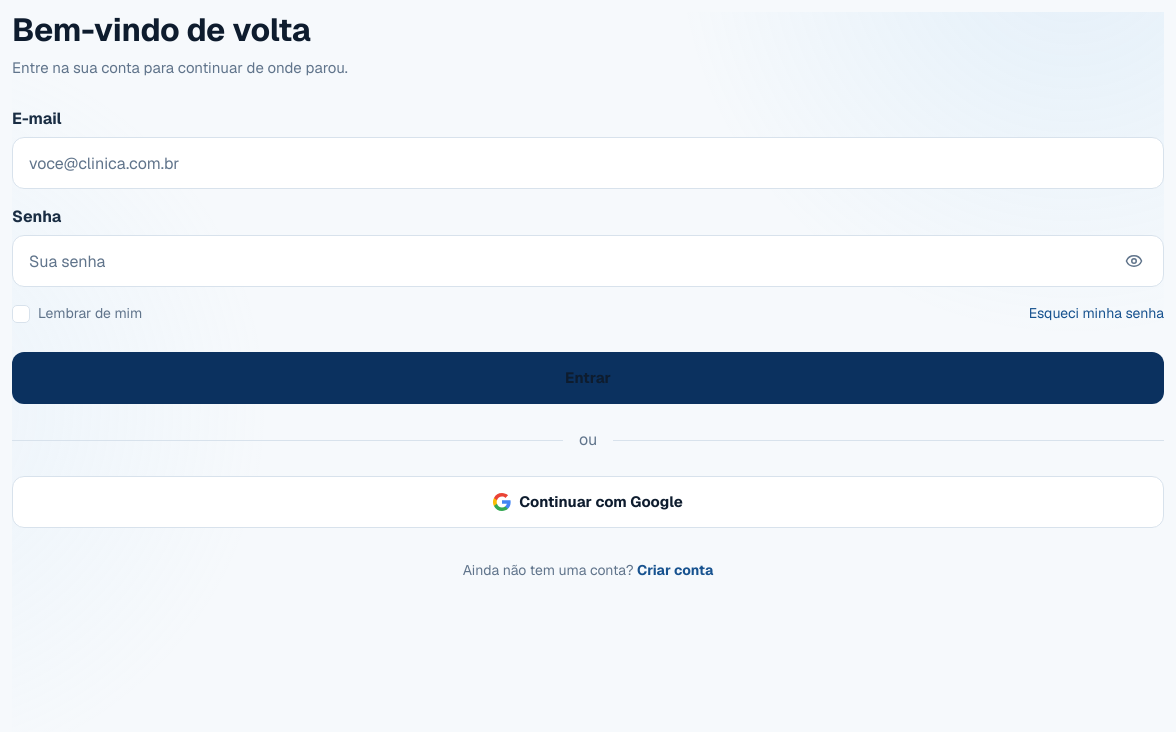
Test: estados do envio › falha de transporte não deixa a tela muda
The width and height of the screenshot is (1176, 732).
In the field labelled "E-mail": (588, 163) x1=12 y1=137 x2=1164 y2=189, type "maria@exemplo.com"
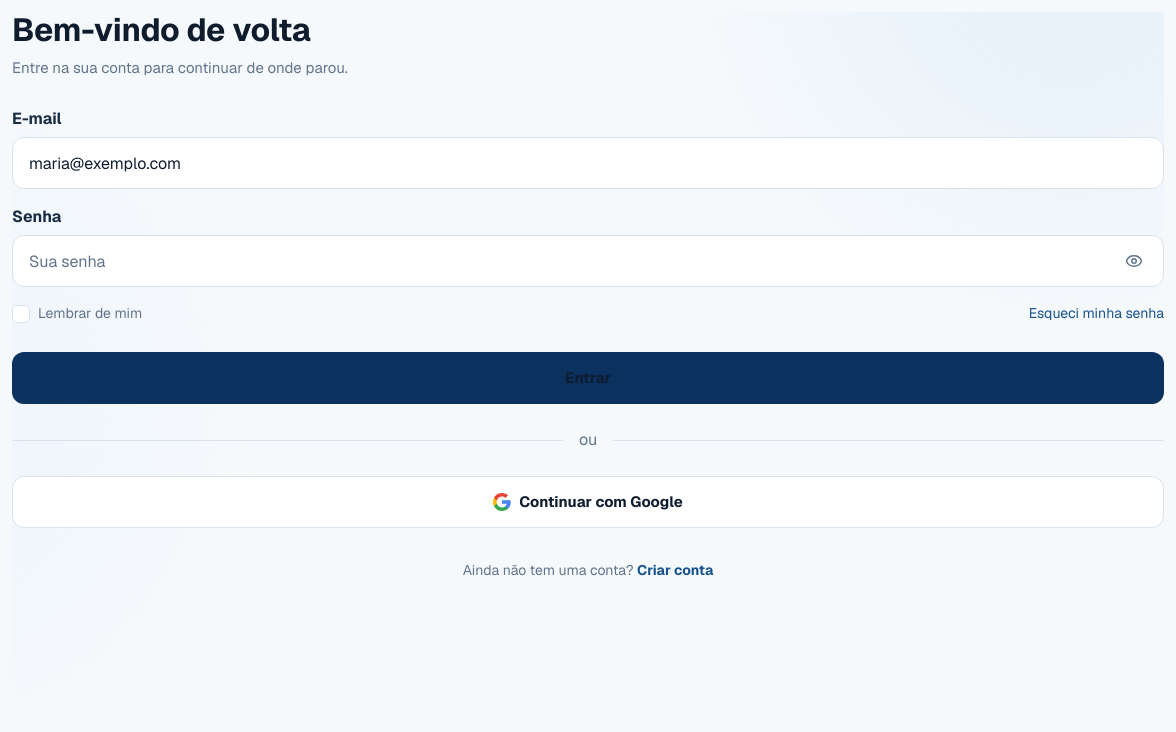
In the password field labelled "Senha": (588, 261) x1=12 y1=235 x2=1164 y2=287, type "clinica2026"
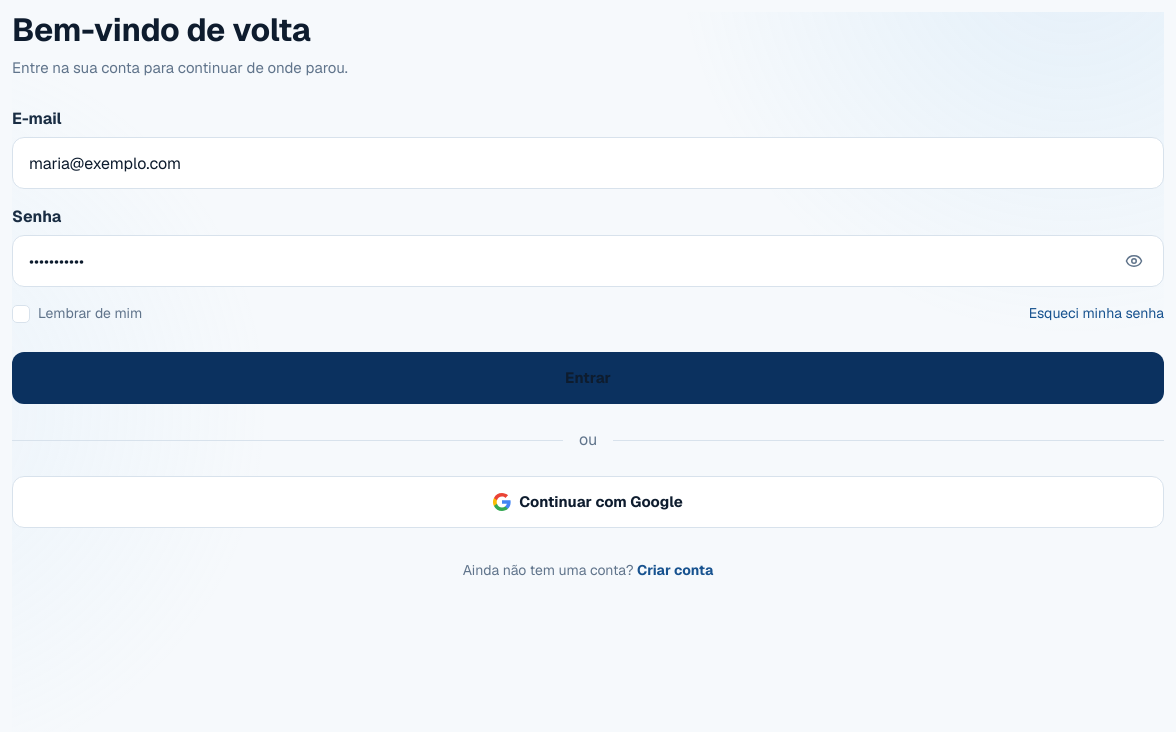
Click the button "Entrar": click(588, 378) x1=12 y1=352 x2=1164 y2=404
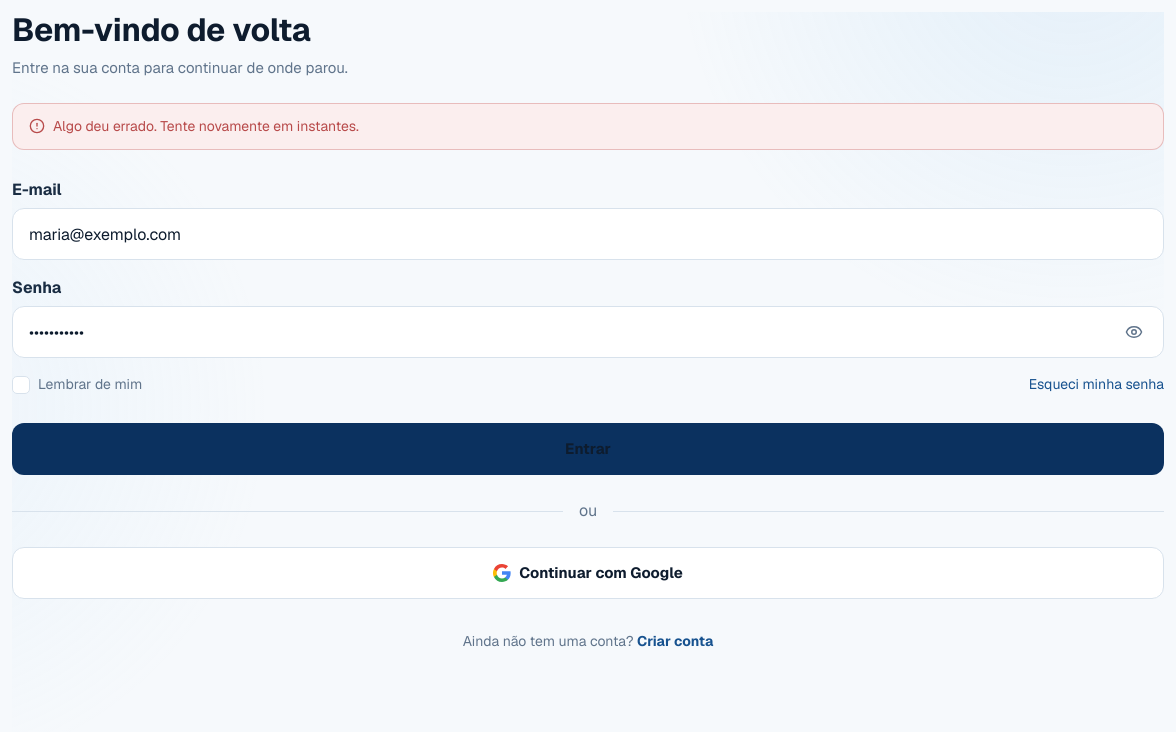
Expected: the message shows "Algo deu errado", x1=53 y1=117 x2=359 y2=135
